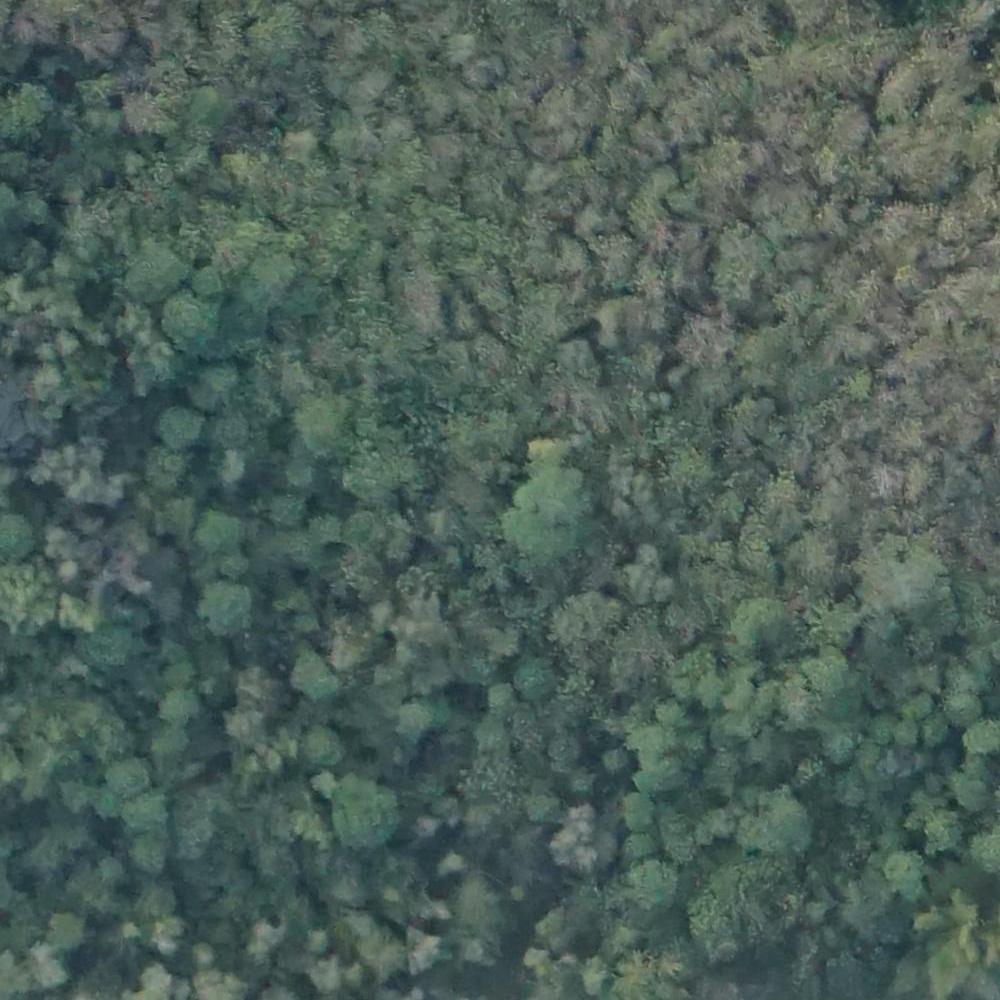tree: (502, 469, 612, 572), (862, 548, 942, 637), (729, 779, 811, 858), (708, 233, 792, 308), (332, 770, 397, 851), (555, 595, 632, 663), (548, 811, 618, 884), (1, 559, 63, 637), (798, 649, 861, 716), (522, 90, 585, 153), (614, 544, 680, 602), (790, 530, 847, 594), (515, 434, 581, 487), (156, 285, 219, 339), (115, 238, 178, 291), (198, 579, 262, 629), (1, 83, 56, 141), (143, 436, 203, 488), (356, 928, 407, 988), (631, 723, 695, 769), (564, 330, 613, 390), (625, 853, 675, 911), (732, 598, 790, 648), (81, 626, 139, 673), (812, 595, 869, 642), (343, 452, 391, 507), (733, 390, 782, 440), (820, 103, 870, 152), (292, 395, 353, 433), (662, 595, 713, 640), (405, 693, 459, 735), (509, 652, 558, 698), (881, 848, 928, 894), (287, 651, 333, 693), (955, 766, 997, 812), (921, 808, 962, 854), (1, 510, 37, 562), (192, 503, 242, 540), (198, 359, 254, 391), (116, 799, 159, 840), (556, 235, 600, 275), (163, 407, 210, 443), (136, 844, 180, 881), (148, 731, 193, 767), (685, 677, 730, 713), (299, 724, 339, 764), (622, 786, 658, 830), (288, 462, 333, 497), (180, 88, 225, 122), (146, 921, 189, 956), (212, 408, 256, 442), (107, 760, 148, 795), (572, 963, 609, 1000), (464, 53, 505, 86), (159, 687, 195, 724), (241, 915, 275, 954), (838, 369, 877, 403), (396, 456, 432, 492), (487, 677, 521, 715), (966, 721, 1000, 759), (285, 125, 318, 161), (275, 499, 311, 530), (892, 711, 924, 743), (725, 682, 757, 713), (445, 27, 475, 57), (946, 687, 973, 720), (62, 783, 92, 812), (185, 941, 213, 969), (95, 791, 121, 819), (826, 731, 851, 758), (626, 829, 647, 857), (218, 554, 243, 576)
